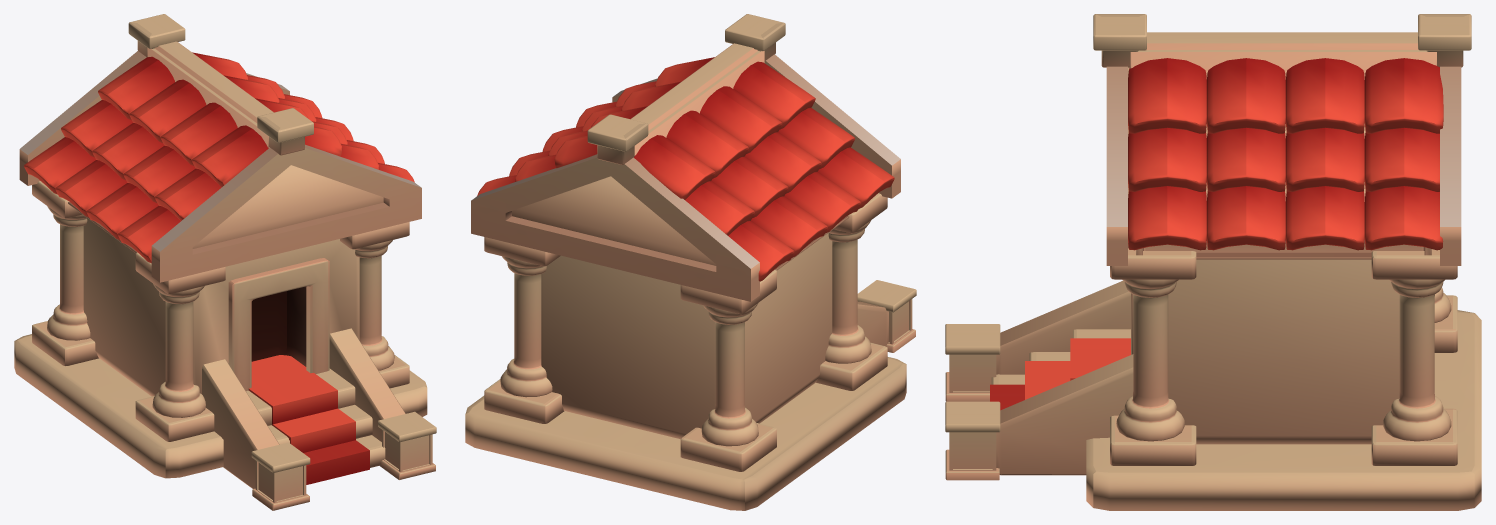
3 renders of one model, left to right at view 1: azimuth 30°, elevation 25°; view 2: azimuth 150°, elevation 25°; view 3: azimuth 270°, elevation 25°, orthographic. The views are drawn at different scales.
Parts seen in each view (by area): view 1: Cube; view 2: Cube; view 3: Cube.
Boxes of the visible parts, x1=… form: Cube: x1=14, y1=14, x2=436, y2=510; Cube: x1=465, y1=14, x2=916, y2=510; Cube: x1=945, y1=14, x2=1481, y2=510.
Bounding box in the file's own units: 206 × 226 × 271.
Materials: 1 (1 with a texture image).
